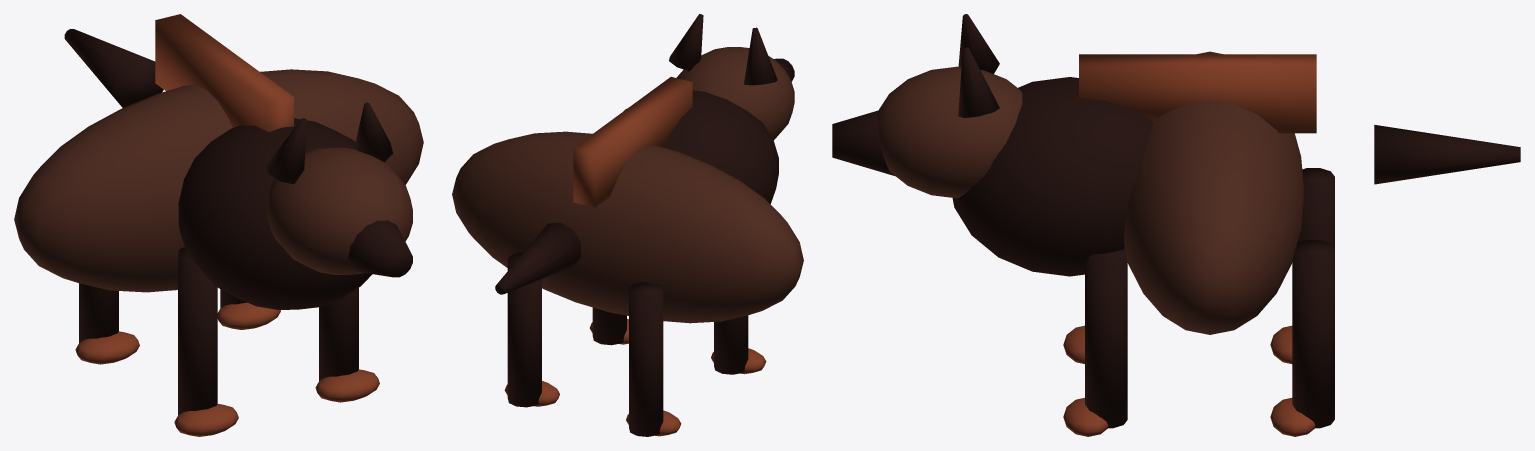
The model's file is prop_creature_ash_hound_t1.glb.
3 views of the same model, side by side, from view 1: azimuth 30°, elevation 25°; view 2: azimuth 150°, elevation 25°; view 3: azimuth 270°, elevation 25° (orthographic). The views are drawn at different scales.
Parts seen in each view (by area): view 1: creature_body, creature_chest, creature_head, wolf_raised_hackle, creature_leg_-1_1, creature_tail, creature_leg_1_1, creature_snout, creature_leg_-1_0, creature_ear_-1, creature_paw_-1_0, creature_paw_1_1 (+3 smaller); view 2: creature_body, creature_chest, wolf_raised_hackle, creature_leg_-1_0, creature_head, creature_leg_1_0, creature_tail, creature_leg_-1_1, creature_ear_-1, creature_ear_1, creature_leg_1_1, creature_paw_1_0 (+2 smaller); view 3: creature_body, creature_chest, wolf_raised_hackle, creature_head, creature_leg_1_0, creature_leg_1_1, creature_tail, creature_snout, creature_leg_-1_0, creature_ear_1, creature_ear_-1, creature_paw_1_0 (+2 smaller).
Part boxes in pixels (x1,y1,x2,y2): creature_body: (14, 69, 423, 292); creature_chest: (178, 118, 372, 309); creature_head: (267, 147, 412, 274); wolf_raised_hackle: (155, 14, 293, 132); creature_leg_-1_1: (178, 247, 217, 415); creature_tail: (64, 29, 163, 107); creature_leg_1_1: (319, 288, 358, 380); creature_snout: (348, 220, 412, 277); creature_leg_-1_0: (79, 283, 118, 342); creature_ear_-1: (266, 118, 306, 184); creature_paw_-1_0: (75, 331, 139, 364); creature_paw_1_1: (315, 369, 379, 402); creature_body: (452, 131, 803, 323); creature_chest: (624, 90, 778, 203); wolf_raised_hackle: (573, 77, 692, 207); creature_leg_-1_0: (629, 282, 663, 436); creature_head: (676, 47, 794, 140); creature_leg_1_0: (507, 252, 541, 407); creature_tail: (495, 222, 580, 294); creature_leg_-1_1: (714, 315, 748, 374); creature_ear_-1: (744, 27, 777, 85); creature_ear_1: (669, 14, 703, 71); creature_leg_1_1: (592, 307, 626, 345); creature_paw_1_0: (504, 381, 559, 406); creature_body: (1124, 51, 1304, 334); creature_chest: (952, 77, 1152, 276); wolf_raised_hackle: (1079, 54, 1316, 133); creature_head: (877, 66, 1022, 198); creature_leg_1_0: (1292, 240, 1334, 428); creature_leg_1_1: (1085, 249, 1127, 428); creature_tail: (1374, 124, 1520, 184); creature_snout: (832, 110, 894, 175); creature_leg_-1_0: (1297, 168, 1334, 248); creature_ear_1: (958, 47, 999, 117); creature_ear_-1: (958, 14, 999, 73); creature_paw_1_0: (1270, 398, 1315, 436).
Bounding box in the file's own units: 1.59 × 1.32 × 2.26.
